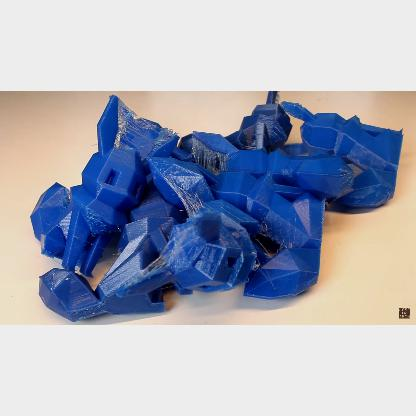fail: (117, 104, 165, 152), (192, 138, 228, 178), (174, 184, 204, 214)
